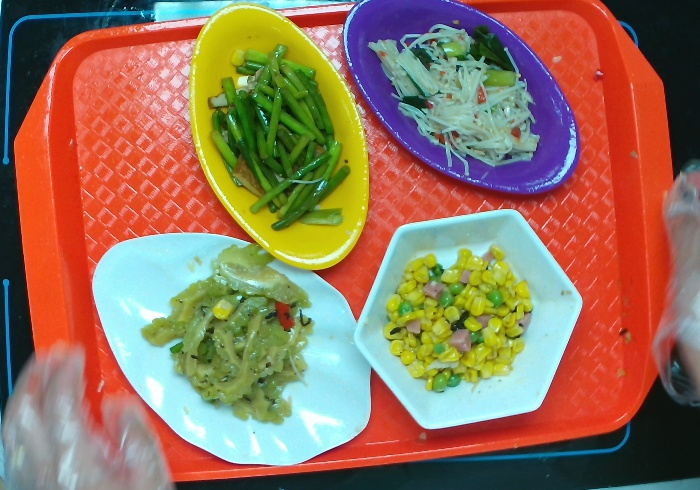RJxy-Bai_Ye_Pan: (87, 227, 375, 469)
RJxy-Fen_Hong_Tuo_Yuan: (342, 1, 582, 196)
RJxy-Huang_Se_Tuo_Yuan: (186, 4, 374, 272)
RJxy-Liu_Jiao_Wan: (353, 204, 588, 431)
